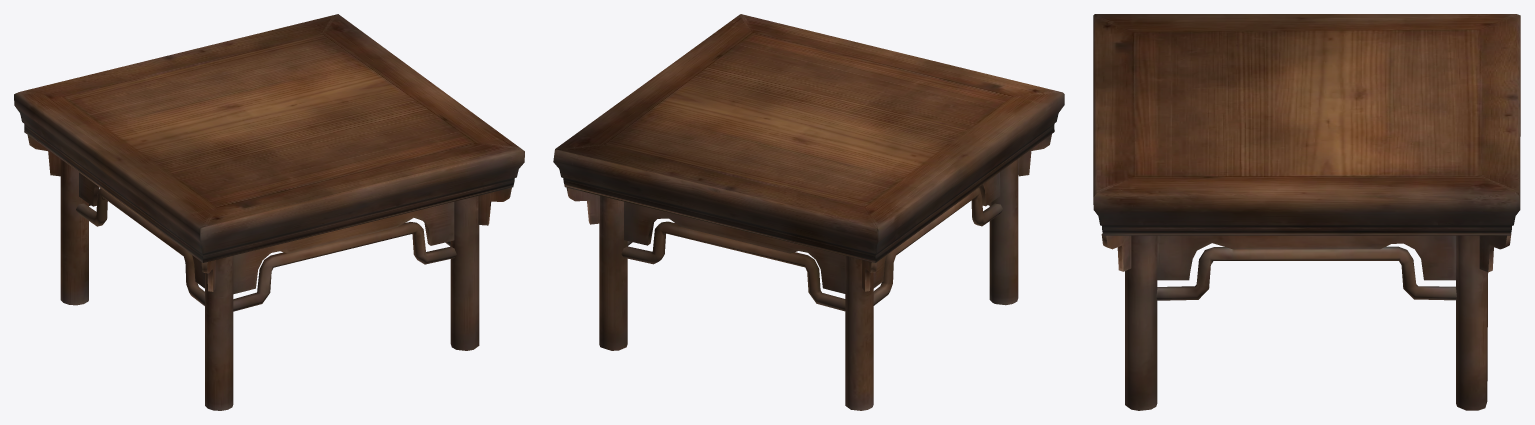
Rendered from chinese_tea_table.glb.
3 views of the same model, side by side, from view 1: azimuth 30°, elevation 25°; view 2: azimuth 150°, elevation 25°; view 3: azimuth 270°, elevation 25° (orthographic). The views are drawn at different scales.
Visible parts, largest first — view 1: chinese_tea_table; view 2: chinese_tea_table; view 3: chinese_tea_table.
Part boxes in pixels (x1=…): chinese_tea_table: x1=14, y1=14, x2=524, y2=410; chinese_tea_table: x1=553, y1=14, x2=1064, y2=410; chinese_tea_table: x1=1093, y1=14, x2=1520, y2=410.
Bounding box in the file's own units: 0.838 × 0.4986 × 0.8324.
1 material, 1 textured.
